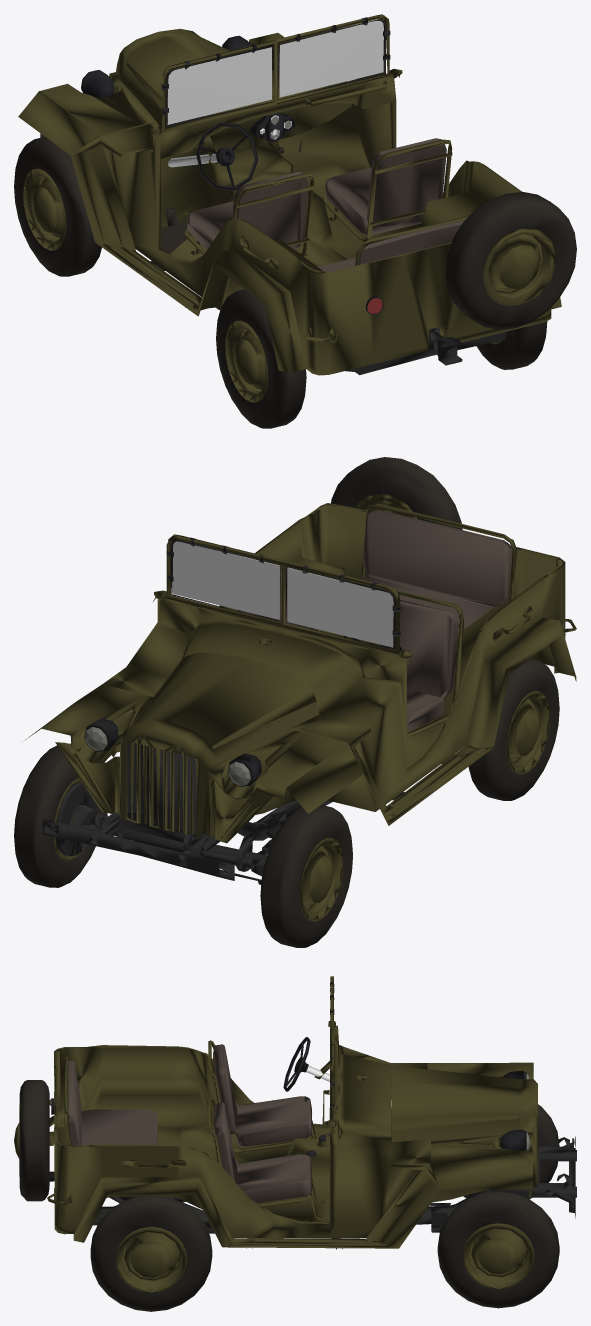
The model's file is gaz67_mobil.glb.
3 renders of one model, top to bottom at view 1: azimuth 30°, elevation 25°; view 2: azimuth 150°, elevation 25°; view 3: azimuth 270°, elevation 25°, orthographic. The views are drawn at different scales.
Parts seen in each view (by area): view 1: GAZ-67b BODY, details, wheel FL, wheel RL, wheel RR, frame, steer wheel; view 2: GAZ-67b BODY, wheel FL, wheel RL, frame, wheel FR, details; view 3: GAZ-67b BODY, wheel FR, wheel RR, details, frame, wheel FL, steer wheel.
Part boxes in pixels (x1,y1,x2,y2): GAZ-67b BODY: [18, 14, 561, 375]; details: [162, 79, 576, 329]; wheel FL: [14, 136, 101, 276]; wheel RL: [216, 289, 306, 428]; wheel RR: [476, 321, 547, 369]; frame: [150, 261, 508, 375]; steer wheel: [196, 122, 258, 190]; GAZ-67b BODY: [24, 503, 576, 880]; wheel FL: [260, 804, 352, 947]; wheel RL: [468, 658, 559, 800]; frame: [55, 754, 454, 884]; wheel FR: [14, 743, 101, 887]; details: [331, 457, 462, 529]; GAZ-67b BODY: [47, 976, 575, 1248]; wheel FR: [437, 1191, 559, 1308]; wheel RR: [90, 1195, 212, 1311]; details: [14, 1061, 391, 1201]; frame: [49, 1138, 576, 1249]; wheel FL: [463, 1104, 559, 1199]; steer wheel: [283, 1037, 310, 1091].
Size of the model in its own units: 1.68 by 1.56 by 3.35.
